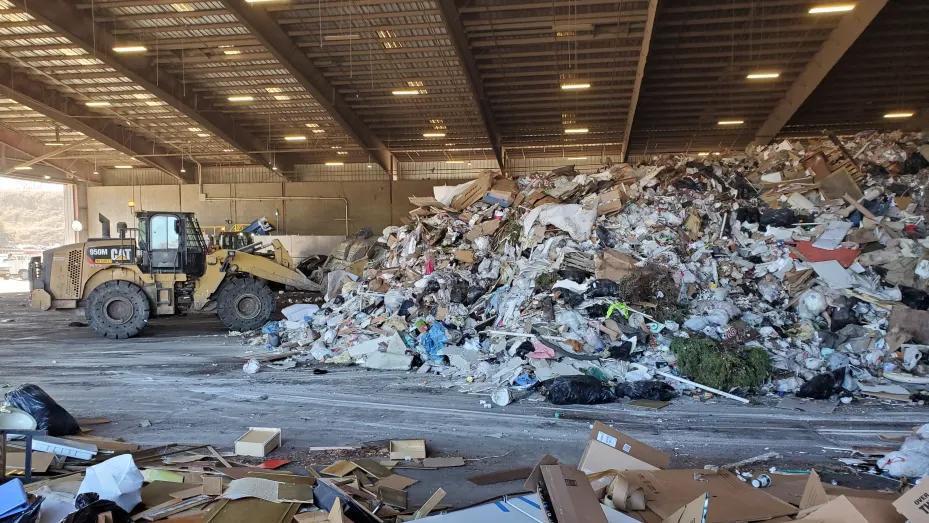garbage: (268, 135, 929, 402)
